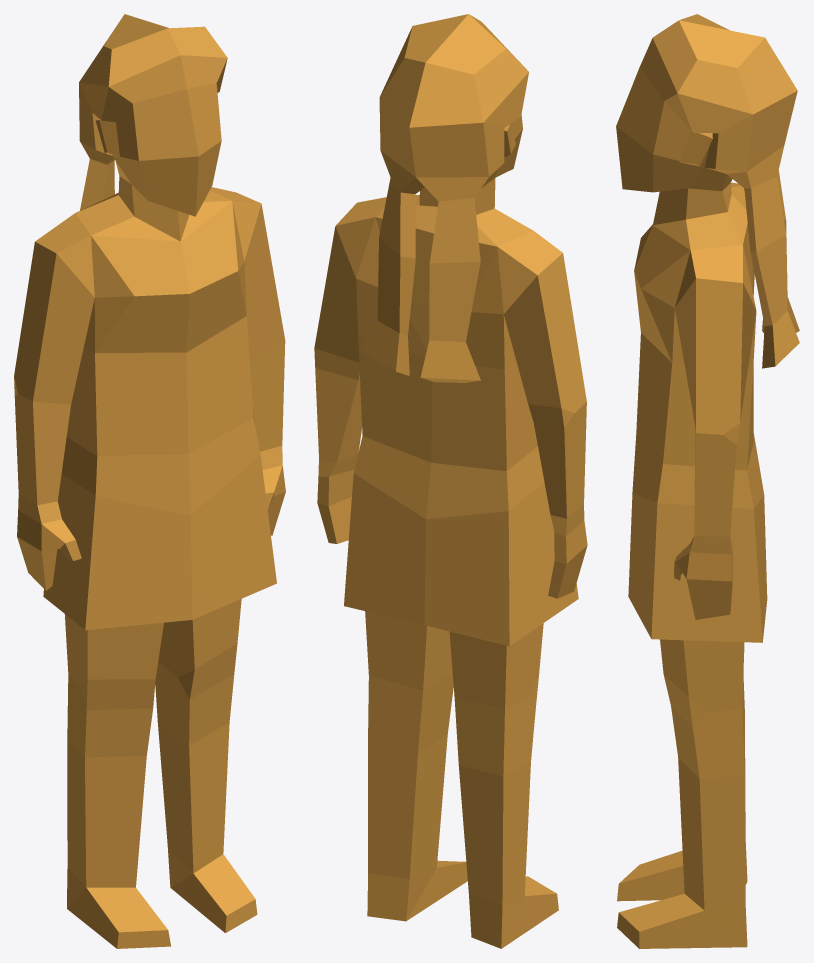
The model's file is girl-skirt.fbx.
3 renders of one model, left to right at view 1: azimuth 30°, elevation 25°; view 2: azimuth 150°, elevation 25°; view 3: azimuth 270°, elevation 25°, orthographic.
Parts seen in each view (by area): view 1: girl-skirt; view 2: girl-skirt; view 3: girl-skirt.
Part boxes in pixels (box(x1,y1,x2,y2)): girl-skirt: box(14, 14, 285, 948); girl-skirt: box(314, 14, 587, 948); girl-skirt: box(616, 14, 799, 948).
Bounding box in the file's own units: 0.3303 × 1.1 × 0.2052.
